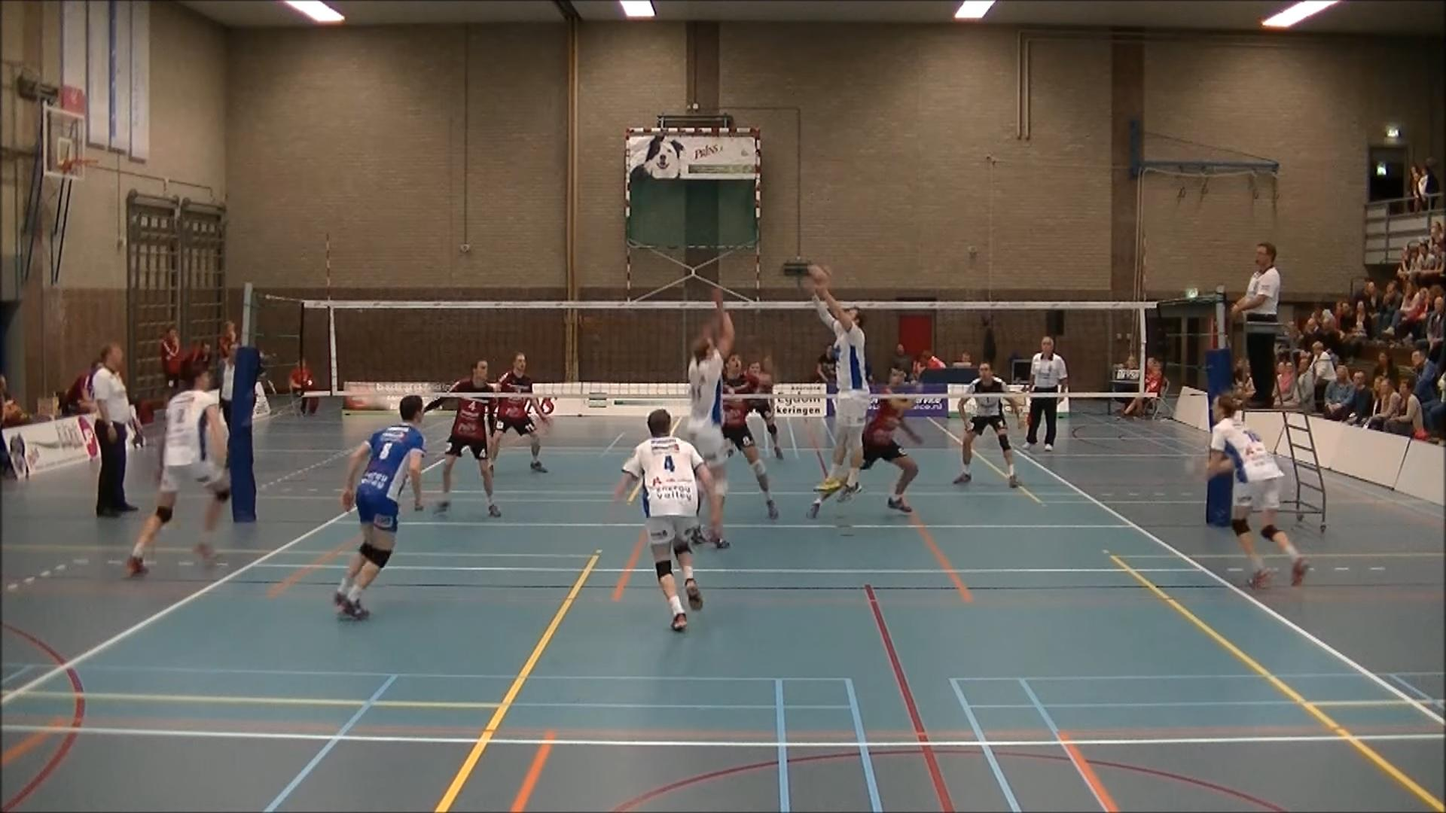alzata: (795, 262, 887, 509)
attacco: (674, 277, 744, 555)
